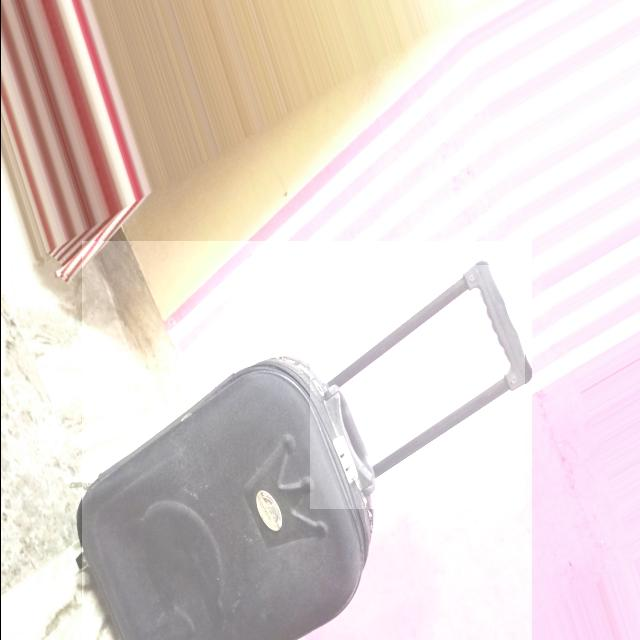Bag: (55, 244, 527, 635)
Handle: (316, 254, 533, 503)
